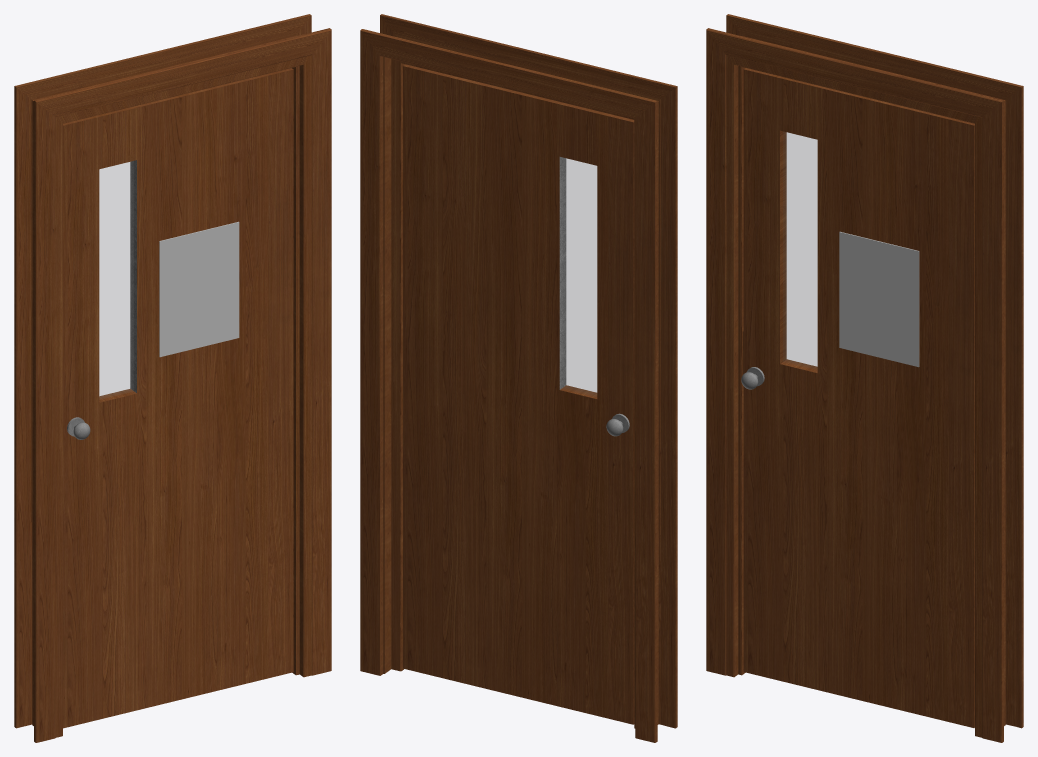
The model's file is Door 1.FBX.
3 renders of one model, left to right at view 1: azimuth 30°, elevation 25°; view 2: azimuth 150°, elevation 25°; view 3: azimuth 330°, elevation 25°, orthographic.
Visible parts, largest first — view 1: door A, frame door, picture; view 2: door A, frame door; view 3: door A, frame door, picture.
Boxes of the visible parts, bbox=[...] form: door A: bbox=[63, 68, 293, 728]; frame door: bbox=[14, 14, 331, 742]; picture: bbox=[159, 221, 239, 357]; door A: bbox=[403, 64, 634, 724]; frame door: bbox=[360, 14, 677, 742]; door A: bbox=[741, 68, 974, 727]; frame door: bbox=[706, 14, 1023, 742]; picture: bbox=[839, 231, 919, 367].
Bounding box in the file's own units: 102 × 212 × 15.89.
